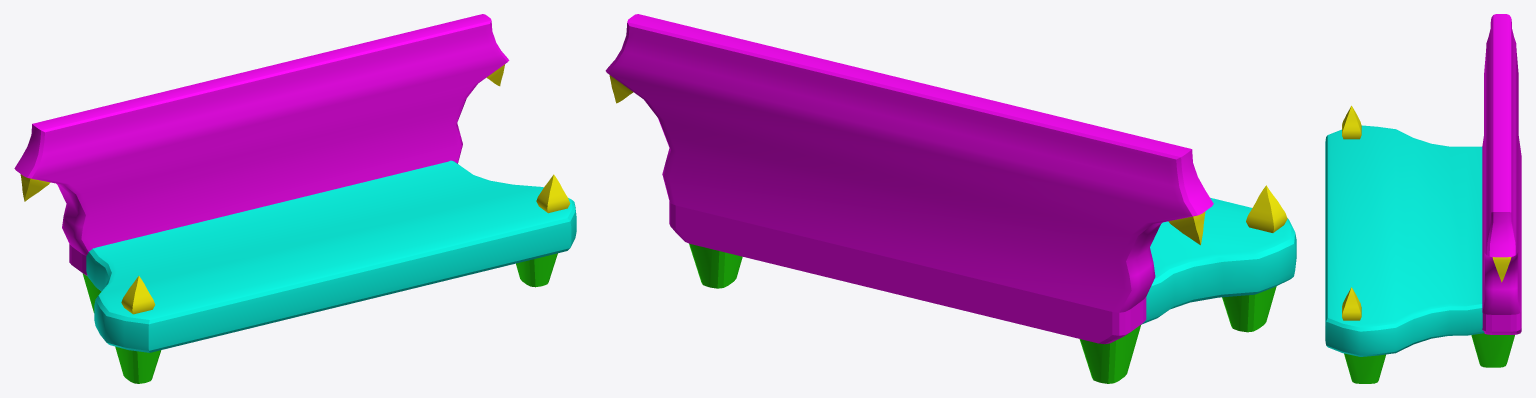
Rendered from umgebung_sofa_low.FBX.
The picture shows the model from 3 angles, left to right: view 1: azimuth 30°, elevation 25°; view 2: azimuth 150°, elevation 25°; view 3: azimuth 270°, elevation 25°; orthographic projection. The views are drawn at different scales.
Visible parts, largest first — view 1: o_ruecken_low, o_sitzflaesche_low, o_fuss_low, i_fuss_low, o_stachel_low, i_stachel_low; view 2: o_ruecken_low, o_sitzflaesche_low, i_fuss_low (×2), i_stachel_low (×2), o_fuss_low; view 3: o_sitzflaesche_low, o_ruecken_low, i_fuss_low (×2), i_stachel_low (×2), o_stachel_low.
Part boxes in pixels (x1,y1,x2,y2): o_ruecken_low: [14, 14, 509, 275]; o_sitzflaesche_low: [86, 160, 576, 352]; o_fuss_low: [115, 346, 161, 383]; i_fuss_low: [516, 253, 557, 287]; o_stachel_low: [536, 174, 570, 213]; i_stachel_low: [121, 276, 155, 314]; o_ruecken_low: [605, 14, 1213, 344]; o_sitzflaesche_low: [1141, 197, 1296, 324]; i_fuss_low (×2): [689, 243, 1140, 383]; i_stachel_low (×2): [1168, 185, 1287, 245]; o_fuss_low: [1222, 286, 1276, 332]; o_sitzflaesche_low: [1325, 125, 1484, 356]; o_ruecken_low: [1482, 14, 1521, 334]; i_fuss_low (×2): [1344, 333, 1514, 383]; i_stachel_low (×2): [1342, 105, 1511, 282]; o_stachel_low: [1342, 287, 1361, 320].
Bounding box in the file's own units: 473 × 188 × 185.
